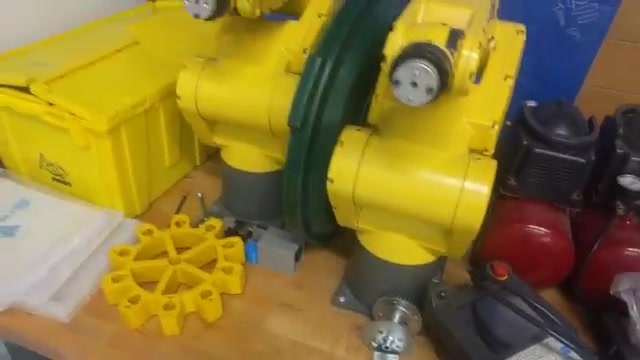gear: (91, 213, 249, 346)
